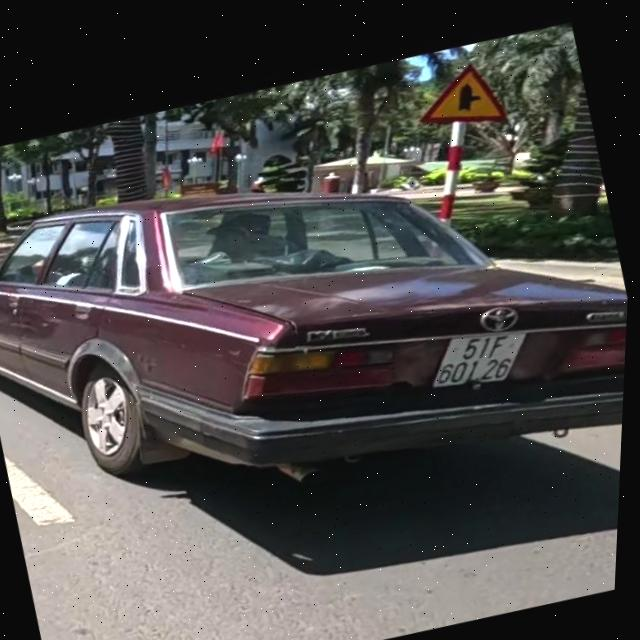car: (0, 80, 636, 589)
plate: (417, 313, 542, 404)
